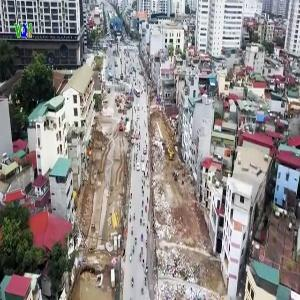drone: (241, 156, 278, 193)
